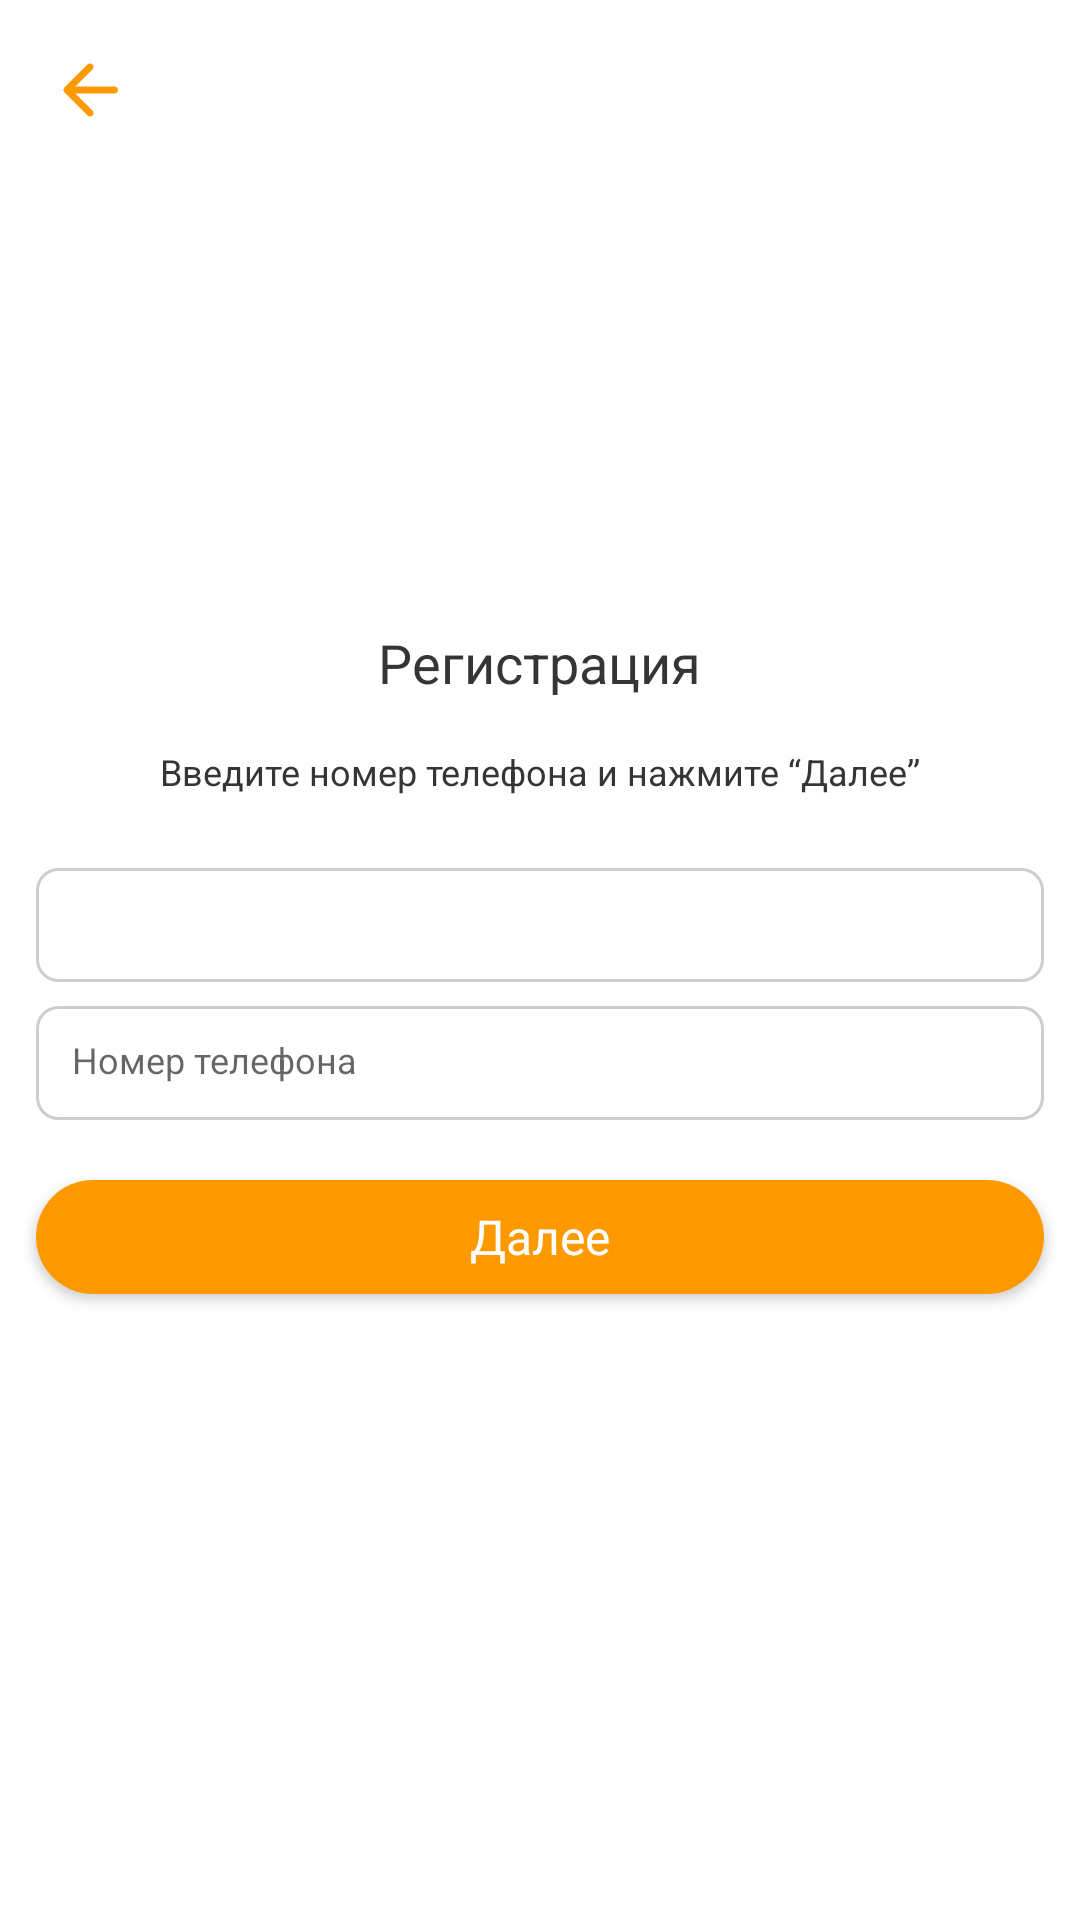

Icons on this 1080 x 1920 Android screen, each with its box as (x1, y1, x2, y2):
back: (63, 63, 118, 117)
